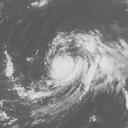cyclone: (43, 29, 122, 99)
